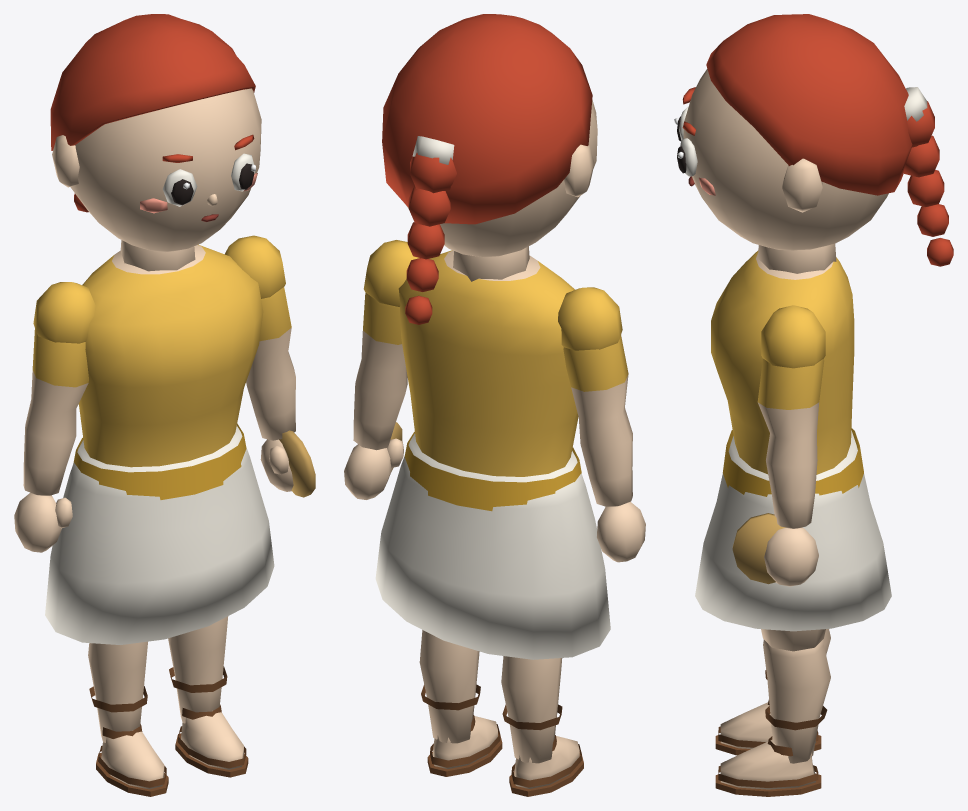
The model's file is diskuswerferin.glb.
3 renders of one model, left to right at view 1: azimuth 30°, elevation 25°; view 2: azimuth 150°, elevation 25°; view 3: azimuth 270°, elevation 25°, orthographic. The views are drawn at different scales.
Visible parts, largest first — view 1: rumpf, huefte, kopf, haare, armL, armR, knieL, knieR, itemR, augeL, augeR; view 2: haare, rumpf, huefte, armL, armR, knieL, knieR, kopf; view 3: haare, rumpf, huefte, kopf, armR, knieR, knieL, itemR, beinR, augeR.
Part boxes in pixels (box(x1,y1,x2,y2)): rumpf: box(73, 244, 263, 499); huefte: box(45, 425, 274, 644); kopf: box(52, 88, 261, 271); haare: box(50, 14, 255, 212); armL: box(14, 282, 95, 552); armR: box(224, 235, 295, 491); knieL: box(88, 641, 168, 796); knieR: box(168, 616, 248, 777); itemR: box(279, 430, 315, 497); augeL: box(162, 169, 197, 206); augeR: box(231, 153, 255, 191); haare: box(382, 14, 592, 324); rumpf: box(398, 250, 581, 511); huefte: box(375, 433, 610, 659); armL: box(558, 287, 645, 562); armR: box(344, 240, 419, 499); knieL: box(501, 656, 583, 796); knieR: box(419, 630, 502, 776); kopf: box(405, 100, 597, 281); haare: box(706, 14, 953, 266); rumpf: box(711, 250, 863, 496); huefte: box(695, 430, 891, 631); kopf: box(683, 69, 888, 273); armR: box(757, 305, 825, 586); knieR: box(715, 639, 830, 796); knieL: box(715, 629, 830, 755); itemR: box(732, 513, 785, 584); beinR: box(761, 629, 825, 651); augeR: box(677, 138, 697, 176).
Size of the model in its own units: 0.9329 by 2.29 by 0.7797.
